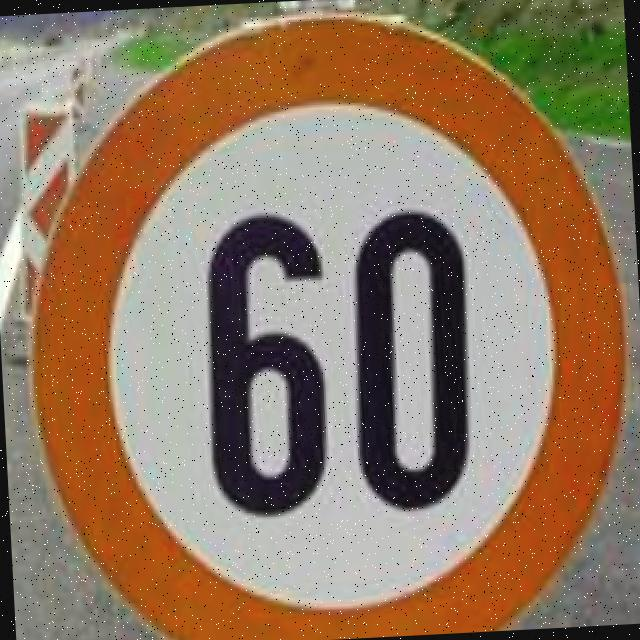Ograniczenie predkosci do 60: (13, 0, 639, 640)
